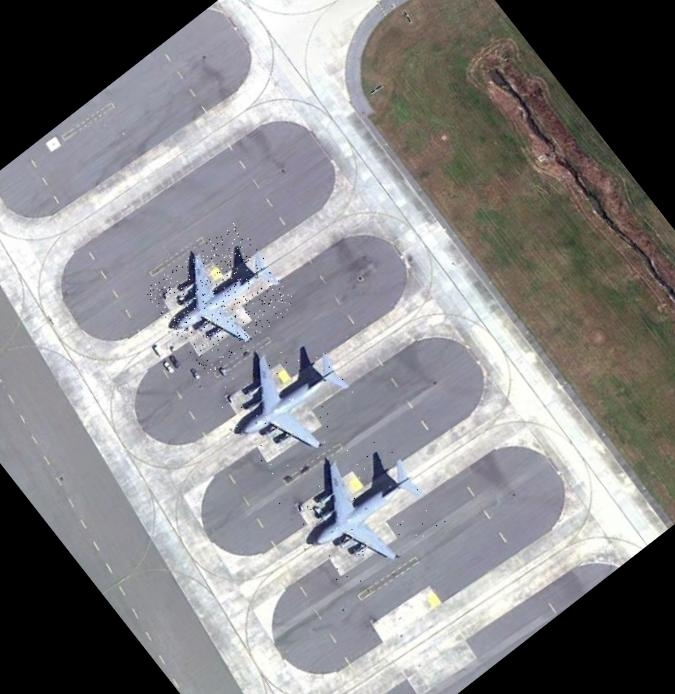A3: (276, 426, 447, 596), (208, 323, 368, 481), (142, 220, 300, 376)
